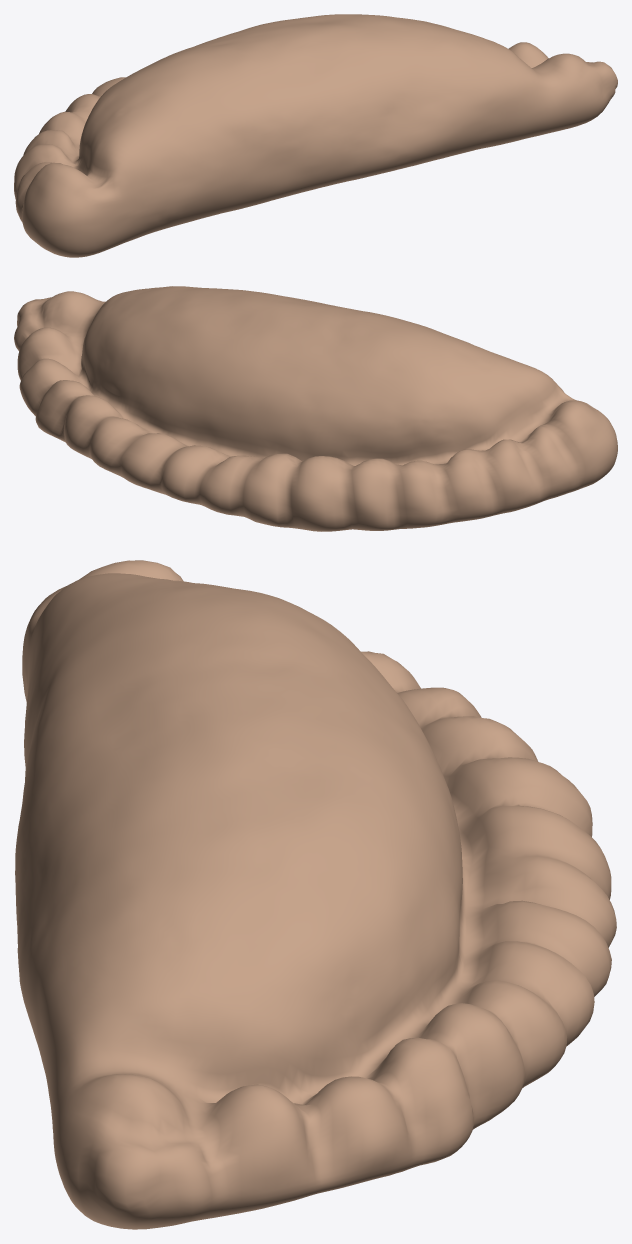
File: Pasty_low.fbx
3 renders of one model, top to bottom at view 1: azimuth 30°, elevation 25°; view 2: azimuth 150°, elevation 25°; view 3: azimuth 270°, elevation 25°, orthographic. The views are drawn at different scales.
Visible parts, largest first — view 1: Pasty; view 2: Pasty; view 3: Pasty.
Part boxes in pixels (x1=…): Pasty: x1=14, y1=14, x2=617, y2=257; Pasty: x1=14, y1=286, x2=617, y2=531; Pasty: x1=15, y1=560, x2=616, y2=1229.
Bounding box in the file's own units: 19.15 × 8.49 × 4.45.
